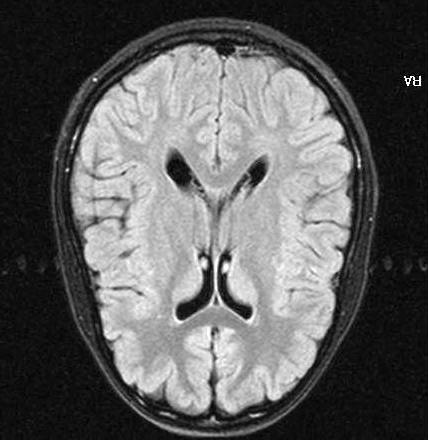Normal_Brain: (1, 1, 428, 436)
